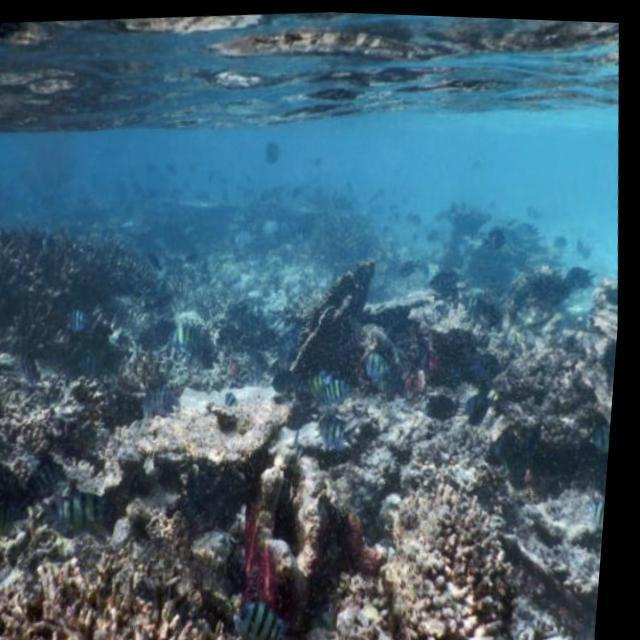Dead Coral: (0, 401, 629, 640), (491, 341, 601, 458)
